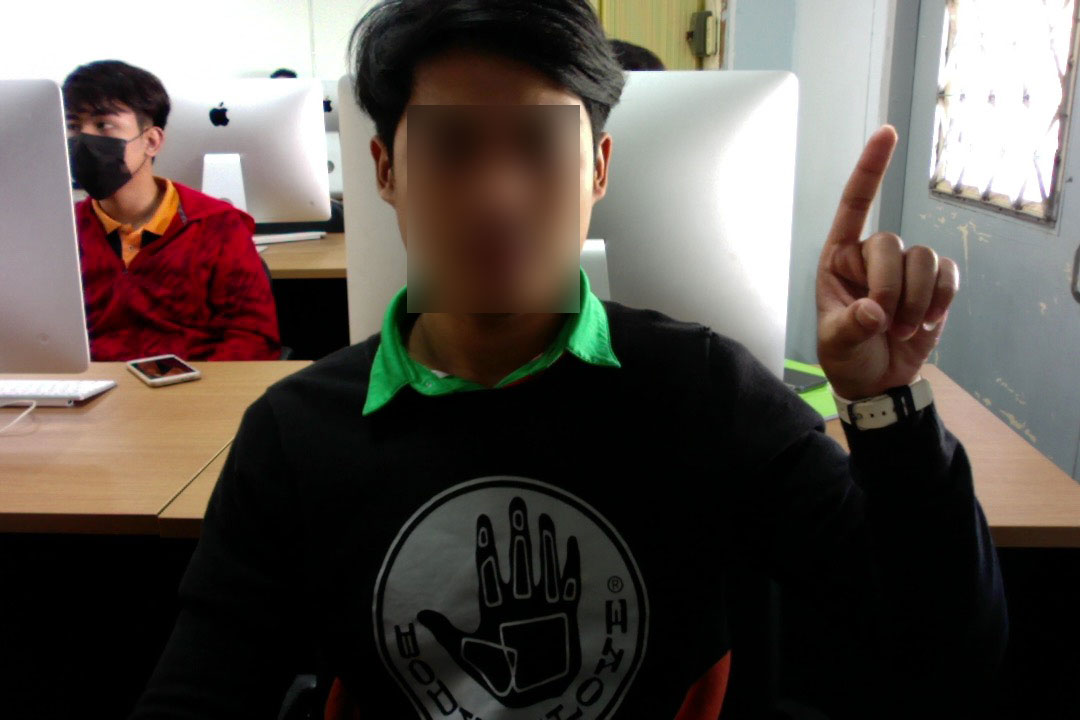dor: (809, 114, 970, 428)
